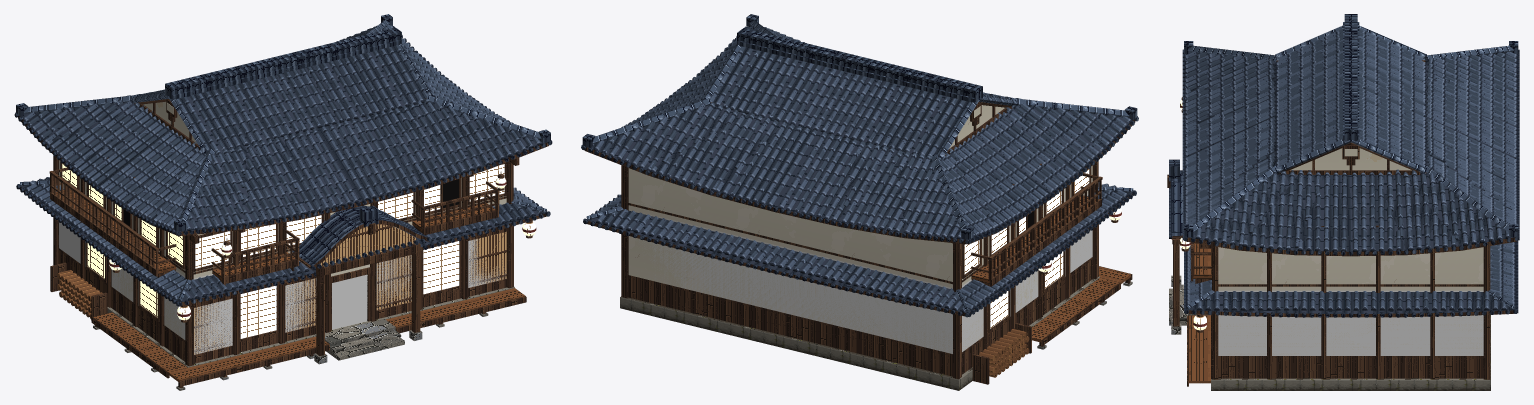
The model's file is JP_Rich_LanternInn_A.glb.
3 renders of one model, left to right at view 1: azimuth 30°, elevation 25°; view 2: azimuth 150°, elevation 25°; view 3: azimuth 270°, elevation 25°, orthographic. The views are drawn at different scales.
Parts seen in each view (by area): view 1: JP_Rich_LanternInn_A, COL_JP_Rich_LanternInn_A; view 2: JP_Rich_LanternInn_A, COL_JP_Rich_LanternInn_A; view 3: JP_Rich_LanternInn_A, COL_JP_Rich_LanternInn_A.
Boxes of the visible parts, x1,y1,x2,y2 form: JP_Rich_LanternInn_A: (14, 14, 552, 390); COL_JP_Rich_LanternInn_A: (59, 185, 505, 354); JP_Rich_LanternInn_A: (581, 14, 1138, 390); COL_JP_Rich_LanternInn_A: (629, 194, 1092, 353); JP_Rich_LanternInn_A: (1167, 14, 1519, 390); COL_JP_Rich_LanternInn_A: (1218, 290, 1483, 355).
Bounding box in the file's own units: 16.4 × 9.62 × 12.96.
16 materials, 16 textured.
